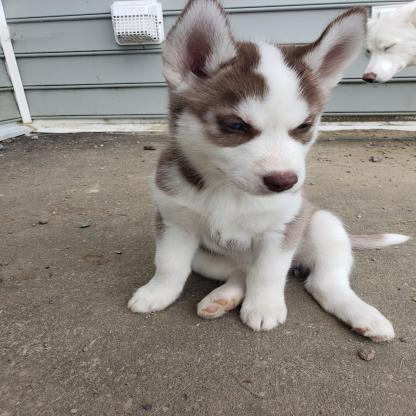husky: (130, 12, 398, 341)
